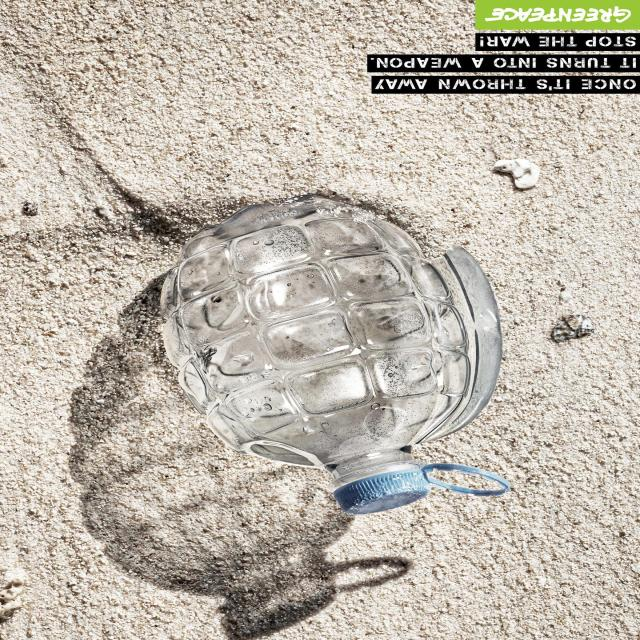grenade: (163, 202, 509, 515)
